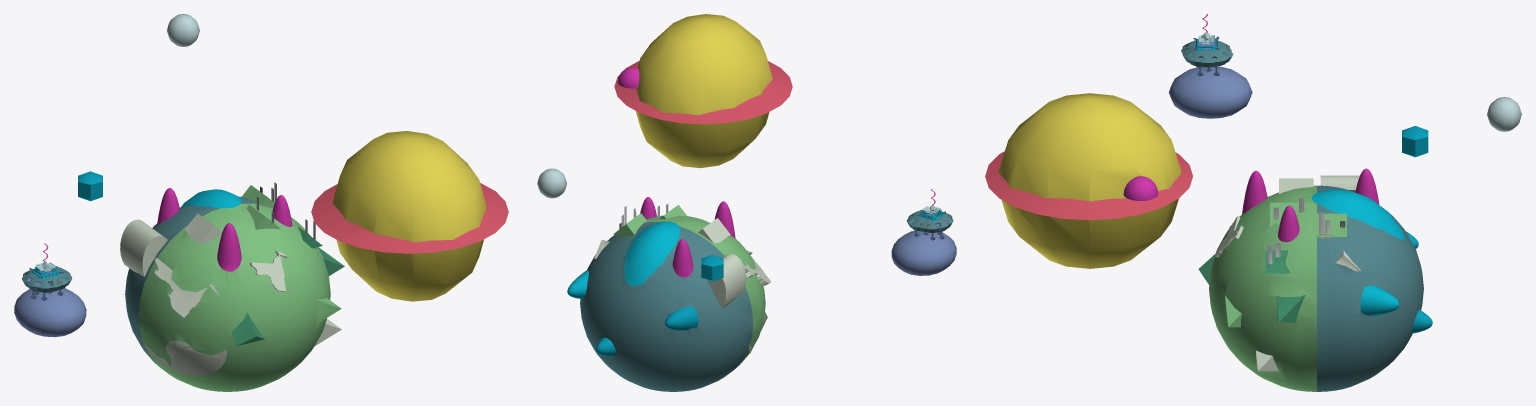
Rendered from hutta.glb.
3 renders of one model, left to right at view 1: azimuth 30°, elevation 25°; view 2: azimuth 150°, elevation 25°; view 3: azimuth 270°, elevation 25°, orthographic. The views are drawn at different scales.
Visible parts, largest first — view 1: Mesh_Mesh_head_geo.001_lambert2SG.001_0; view 2: Mesh_Mesh_head_geo.001_lambert2SG.001_0; view 3: Mesh_Mesh_head_geo.001_lambert2SG.001_0.
Boxes of the visible parts, <box> form: Mesh_Mesh_head_geo.001_lambert2SG.001_0: <box>14,14,508,391</box>; Mesh_Mesh_head_geo.001_lambert2SG.001_0: <box>537,14,956,391</box>; Mesh_Mesh_head_geo.001_lambert2SG.001_0: <box>985,14,1521,391</box>.
Bounding box in the file's own units: 1.9 × 1.32 × 2.
